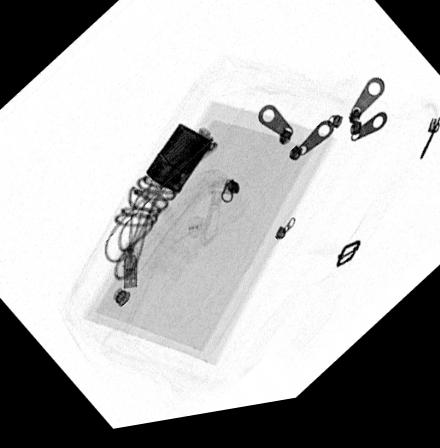Lighter: (145, 129, 214, 199)
